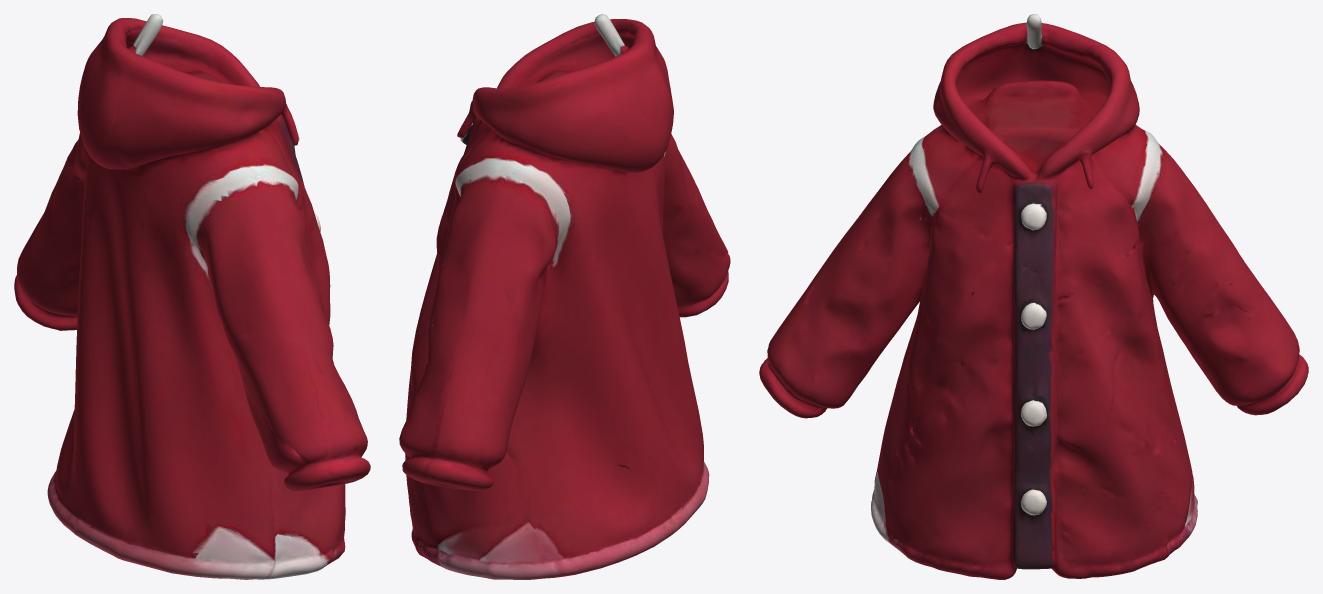
File: keepsake-raincoats.glb
The picture shows the model from 3 angles, left to right: view 1: azimuth 30°, elevation 25°; view 2: azimuth 150°, elevation 25°; view 3: azimuth 270°, elevation 25°; orthographic projection. The views are drawn at different scales.
Parts seen in each view (by area): view 1: tripo_node_6e36fdbd-f904-4987-894c-ee54ccd4124b; view 2: tripo_node_6e36fdbd-f904-4987-894c-ee54ccd4124b; view 3: tripo_node_6e36fdbd-f904-4987-894c-ee54ccd4124b.
Boxes of the visible parts, x1,y1,x2,y2 form: tripo_node_6e36fdbd-f904-4987-894c-ee54ccd4124b: (14,14,370,579); tripo_node_6e36fdbd-f904-4987-894c-ee54ccd4124b: (399,14,730,579); tripo_node_6e36fdbd-f904-4987-894c-ee54ccd4124b: (759,14,1308,579).
Size of the model in its own units: 0.4781 by 0.9729 by 0.9731.
1 material, 1 textured.
